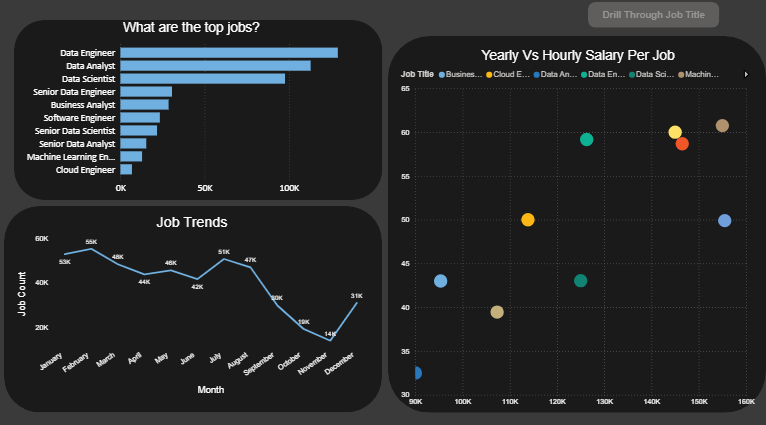

The dashboard page shown, as its layout file describes it:
{"tool":"powerbi","page":{"name":"Jobs Dashboard","canvas":[1280,720],"ordinal":0},"visuals":[{"type":"textbox","box":[10,0,445,76.7],"z":0},{"type":"slicer","fields":{"Values":["job_postings_flat.job_title_short"]},"box":[640,0,313.3,63.3],"z":1000},{"type":"card","fields":{"Values":["job_postings_flat.Median of salary_year_avg star rating"]},"box":[316.7,76.7,306.7,130],"z":2000},{"type":"card","fields":{"Values":["CountNonNull(job_postings_flat.job_title)"]},"box":[10,76.7,295,130],"z":3000},{"type":"card","fields":{"Values":["Median(job_postings_flat.salary_year_avg)"]},"box":[640,76.7,308.3,130],"z":4000},{"type":"card","fields":{"Values":["Median(job_postings_flat.salary_hour_avg)"]},"box":[968.8,76.6,298.4,129.7],"z":5000},{"type":"barChart","title":"What are the top jobs?","fields":{"Category":["job_postings_flat.job_title_short"],"Y":["CountNonNull(job_postings_flat.job_title_short)"]},"box":[10,220,613.3,226.7],"z":6000},{"type":"scatterChart","title":"Yearly Vs Hourly Salary Per Job","fields":{"X":["Median(job_postings_flat.salary_year_avg)"],"Series":["job_postings_flat.job_title_short"],"Y":["Median(job_postings_flat.salary_hour_avg)"]},"box":[640,220,626.7,226.7],"z":7000},{"type":"pivotTable","title":"Matrix","fields":{"Rows":["job_postings_flat.job_title_short","job_postings_flat.job_posted_date.Variation.Date Hierarchy.Quarter"],"Values":["CountNonNull(job_postings_flat.job_title_short)","Median(job_postings_flat.salary_year_avg)","Median(job_postings_flat.salary_hour_avg)","SparklineData(CountNonNull(job_postings_flat.job_title_short)_[job_postings_flat.job_posted_date.Variation.Date Hierarch"]},"box":[640,463.3,626.7,243.3],"z":8000},{"type":"actionButton","title":"Drill Through Job Title","box":[983.3,6.7,283.3,56.7],"z":9000},{"type":"lineChart","title":"Job Trends","fields":{"Category":["job_postings_flat.job_posted_date.Variation.Date Hierarchy.Month"],"Y":["CountNonNull(job_postings_flat.job_title_short)"]},"box":[10,463,613,243],"z":10000}]}

Visuals, with their boxes in screenshot pixels (x1, y1, x2, y2), scaled from the page's 1280x720 canvas onto the 766x425 screenshot:
textbox: locate(6, 0, 272, 45)
slicer - job_postings_flat.job_title_short: locate(383, 0, 570, 37)
card - job_postings_flat.Median of salary_year_avg star rating: locate(190, 45, 373, 122)
card - CountNonNull(job_postings_flat.job_title): locate(6, 45, 183, 122)
card - Median(job_postings_flat.salary_year_avg): locate(383, 45, 567, 122)
card - Median(job_postings_flat.salary_hour_avg): locate(580, 45, 758, 122)
"What are the top jobs?" barChart: locate(6, 130, 373, 264)
"Yearly Vs Hourly Salary Per Job" scatterChart: locate(383, 130, 758, 264)
"Matrix" pivotTable: locate(383, 273, 758, 417)
"Drill Through Job Title" actionButton: locate(588, 4, 758, 37)
"Job Trends" lineChart: locate(6, 273, 373, 417)
